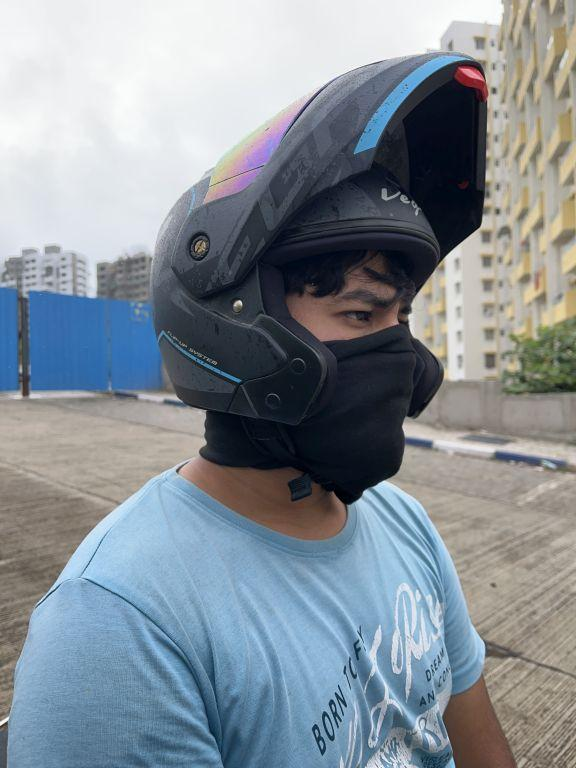helmet: (145, 40, 508, 485)
